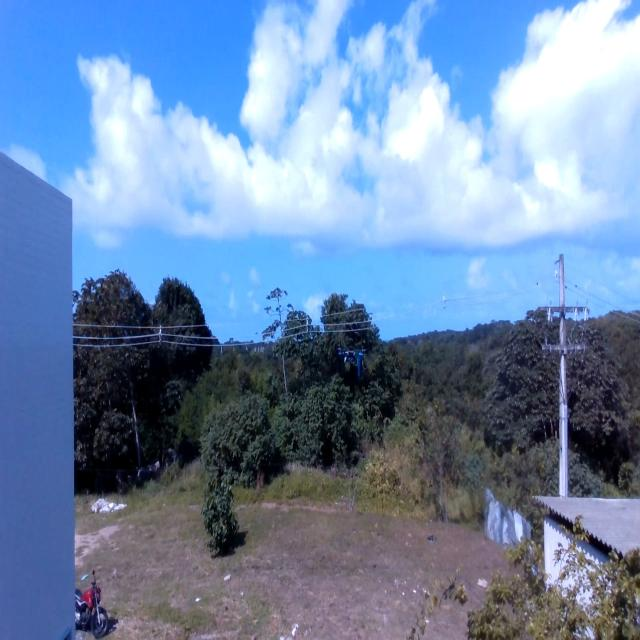-uav-: (334, 333, 368, 387)
